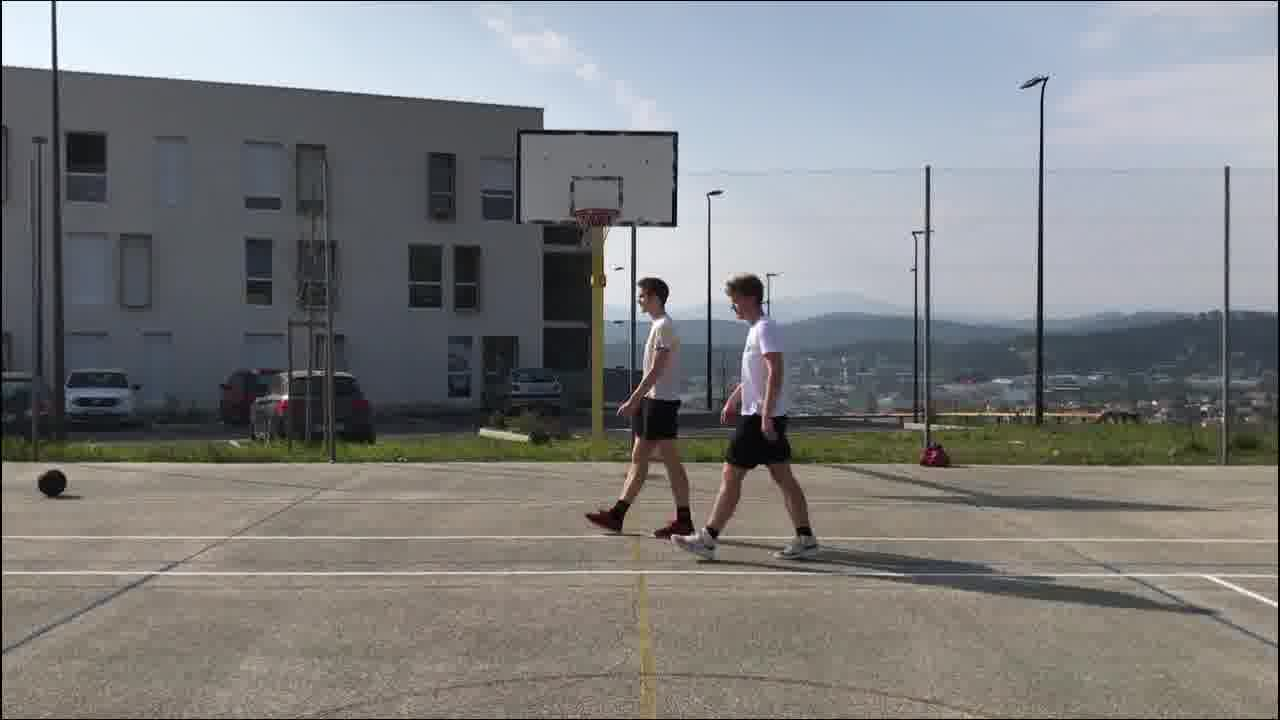jugador: (575, 270, 708, 548)
